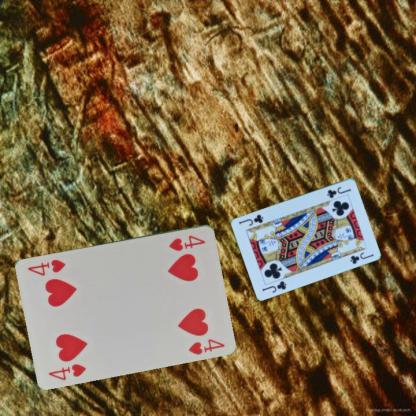4h: (45, 361, 87, 382), (166, 232, 207, 252)
Jc: (260, 278, 288, 294), (324, 184, 353, 199)
